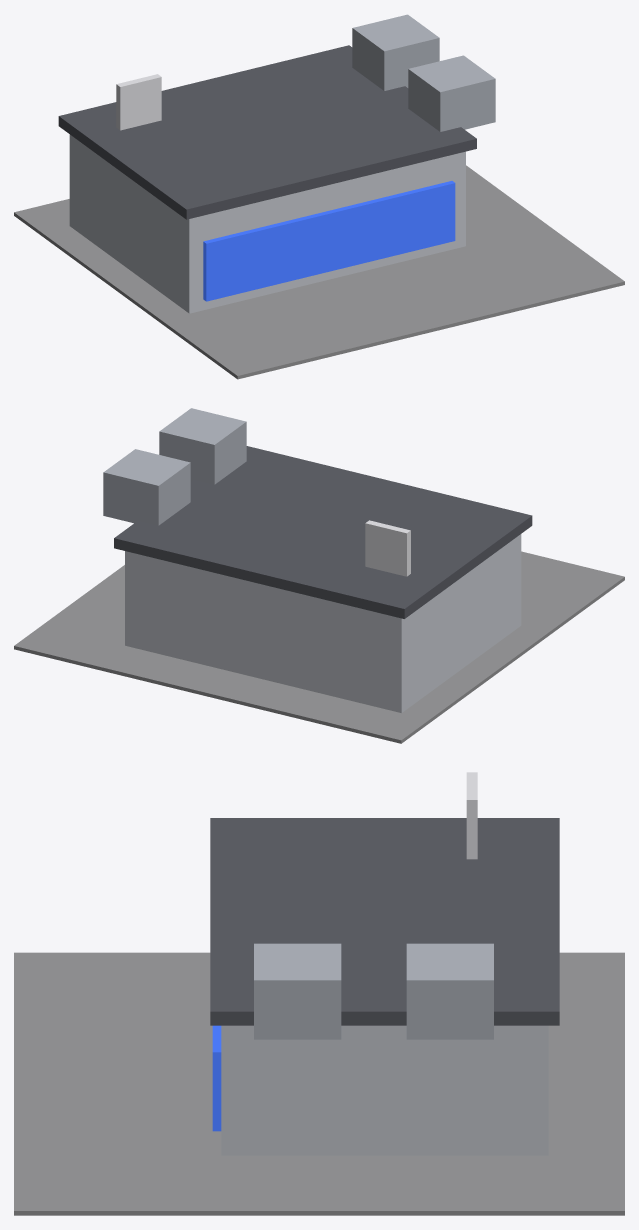
The model's file is server_farm.glb.
3 views of the same model, one above another, from view 1: azimuth 30°, elevation 25°; view 2: azimuth 150°, elevation 25°; view 3: azimuth 270°, elevation 25° (orthographic). The views are drawn at different scales.
Parts seen in each view (by area): view 1: Pad, Roof, Hall, Racks, Cooler2, Cooler1, Dish; view 2: Hall, Roof, Pad, Cooler1, Cooler2, Dish; view 3: Pad, Roof, Hall, Cooler1, Cooler2, Racks, Dish.
Boxes of the visible parts, <box> form: Pad: <box>14,165,624,379</box>; Roof: <box>58,45,476,219</box>; Hall: <box>69,134,465,313</box>; Racks: <box>203,181,455,301</box>; Cooler2: <box>408,55,495,131</box>; Cooler1: <box>352,14,439,90</box>; Dish: <box>116,74,161,130</box>; Hall: <box>125,534,521,712</box>; Roof: <box>114,446,532,618</box>; Pad: <box>14,551,624,743</box>; Cooler1: <box>103,449,190,525</box>; Cooler2: <box>159,408,246,484</box>; Dish: <box>365,520,410,576</box>; Pad: <box>14,952,624,1215</box>; Roof: <box>210,818,559,1025</box>; Hall: <box>221,1025,548,1155</box>; Cooler1: <box>406,943,493,1039</box>; Cooler2: <box>254,943,341,1039</box>; Racks: <box>212,1025,221,1131</box>; Dish: <box>466,772,477,859</box>.
Bounding box in the file's own units: 2.8 × 1.1 × 2.8.
